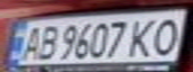0: (90, 19, 112, 58)
6: (75, 20, 93, 60)
7: (106, 17, 133, 59)
9: (54, 21, 78, 61)
A: (15, 24, 45, 61)
B: (33, 21, 60, 61)
K: (124, 15, 163, 57)
O: (145, 14, 190, 56)
